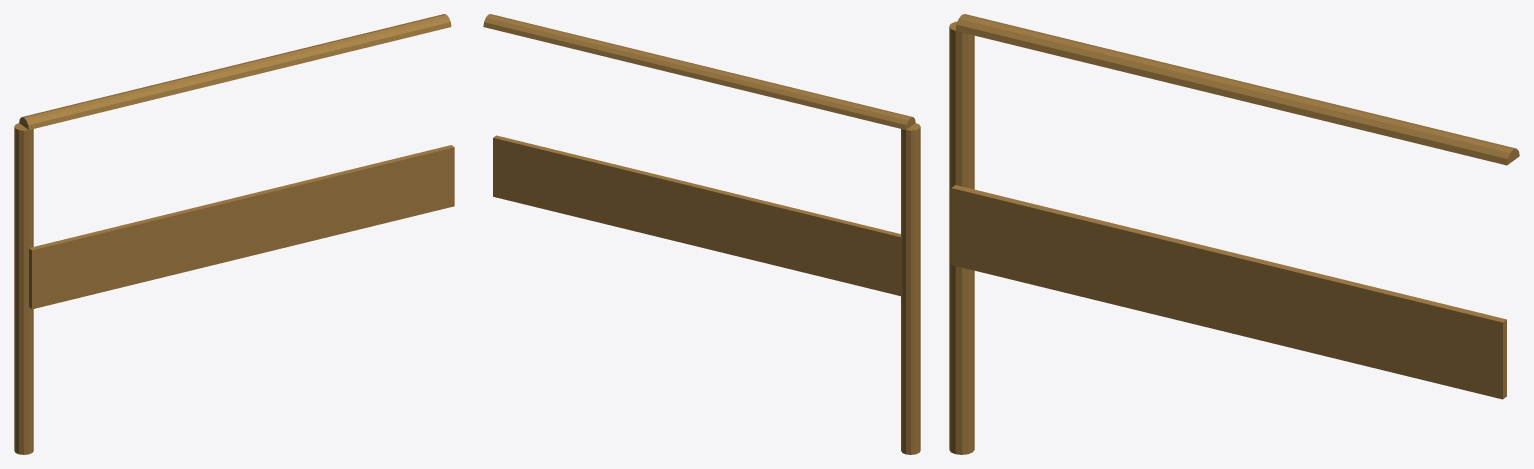
The model's file is M_Sem4_Prop_zaunStueck_FHaufe.fbx.
3 renders of one model, left to right at view 1: azimuth 30°, elevation 25°; view 2: azimuth 150°, elevation 25°; view 3: azimuth 330°, elevation 25°, orthographic. The views are drawn at different scales.
Visible parts, largest first — view 1: zaun_stueck; view 2: zaun_stueck; view 3: zaun_stueck.
Boxes of the visible parts, x1=… form: zaun_stueck: x1=14, y1=14, x2=454, y2=454; zaun_stueck: x1=483, y1=14, x2=920, y2=454; zaun_stueck: x1=949, y1=14, x2=1519, y2=454.
Size of the model in its own units: 153 by 113 by 8.
